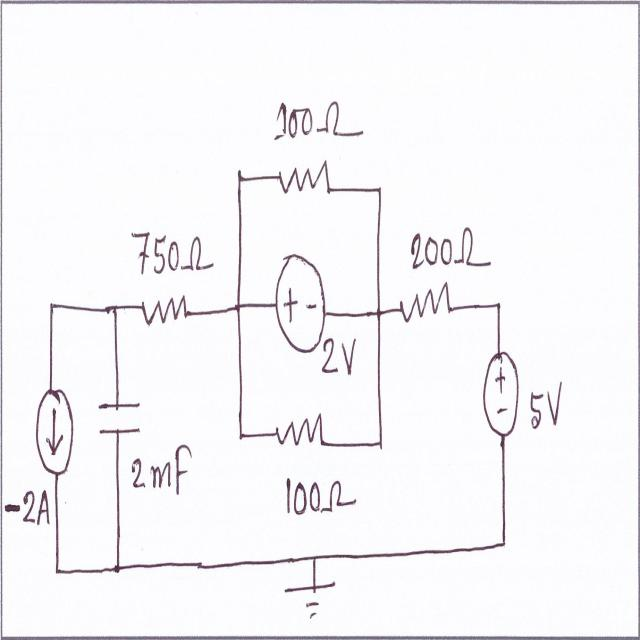capacitor: (95, 391, 147, 444)
current_source: (35, 385, 81, 481)
ground: (283, 577, 341, 620)
resistor: (391, 282, 460, 332), (271, 405, 329, 459), (273, 156, 338, 203), (133, 286, 194, 336)
voltage_source: (272, 247, 330, 356), (479, 345, 523, 448)
